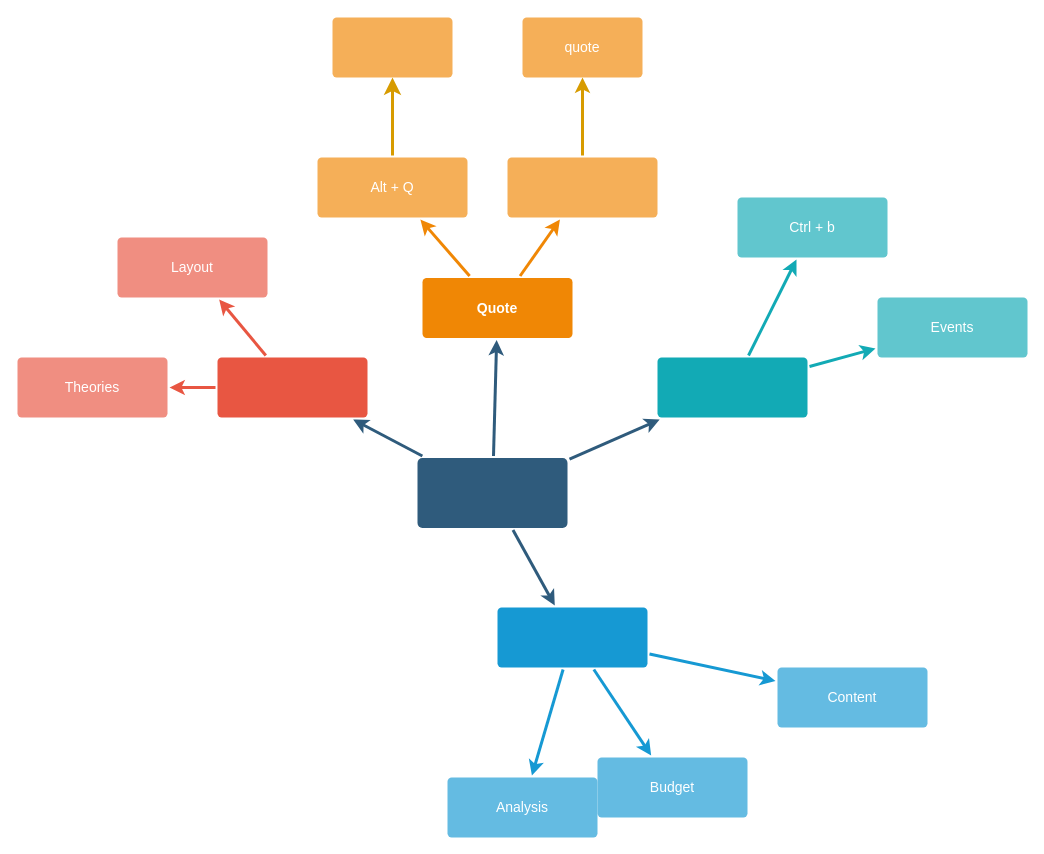
The diagram is 1044 pixels wide and 854 high, and some of its shapes have lost their labels. Here are the shapes that lost their labels. From the top down, the centre of each, then its label:
(392,47): " quote "
(582,187): Ctl + Q
(292,387): Embassy
(732,387): Bold
(492,493): Steam writing assistant
